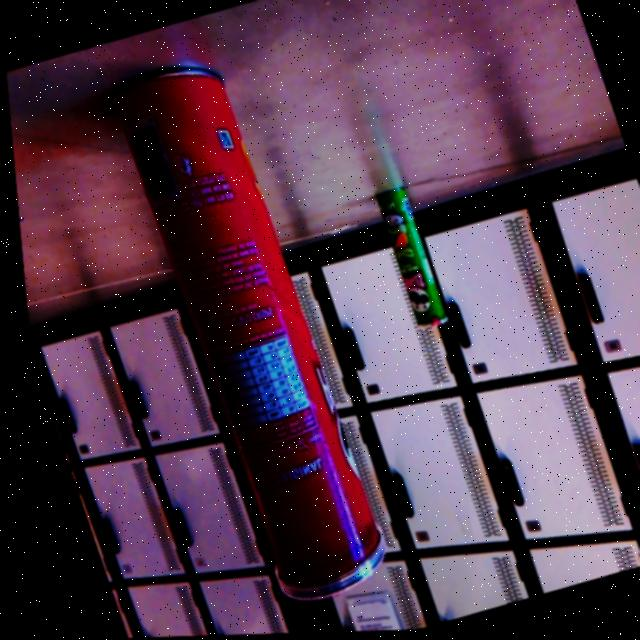greenpringles: (343, 171, 466, 348)
redpringles: (89, 43, 395, 624)
